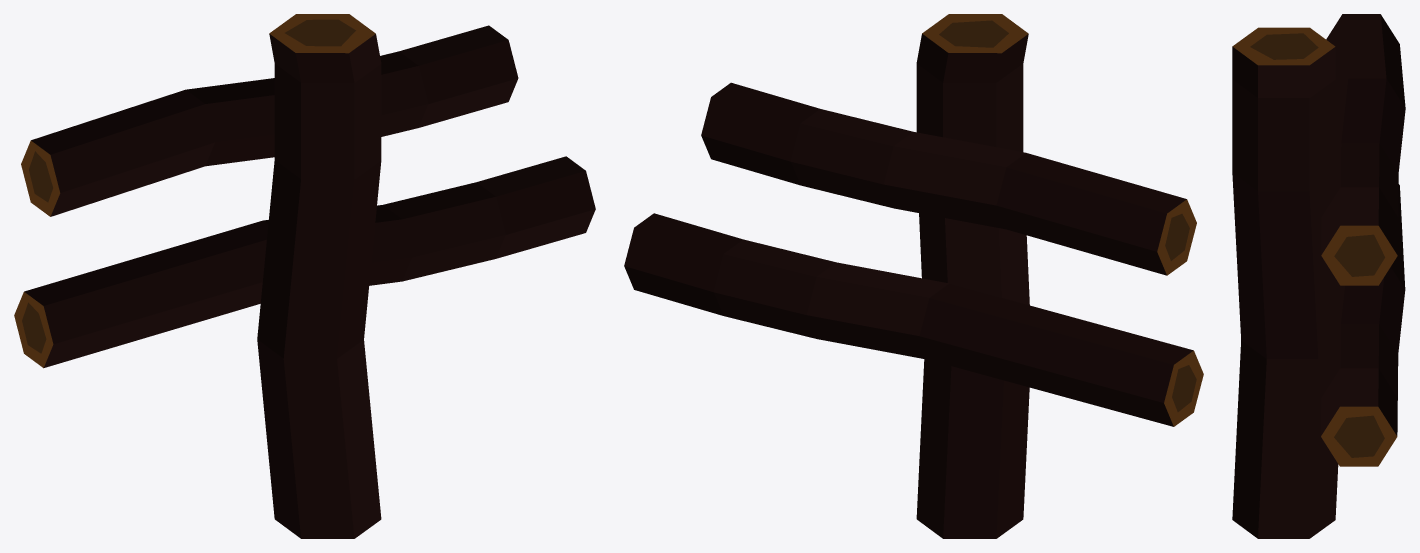
Rendered from railL_1.fbx.
3 views of the same model, side by side, from view 1: azimuth 30°, elevation 25°; view 2: azimuth 150°, elevation 25°; view 3: azimuth 270°, elevation 25° (orthographic). The views are drawn at different scales.
Visible parts, largest first — view 1: railL_1; view 2: railL_1; view 3: railL_1.
Boxes of the visible parts, bbox=[...] form: railL_1: bbox=[14, 14, 595, 538]; railL_1: bbox=[624, 14, 1203, 538]; railL_1: bbox=[1232, 14, 1405, 538].
Size of the model in its own units: 182 by 52.23 by 157.
